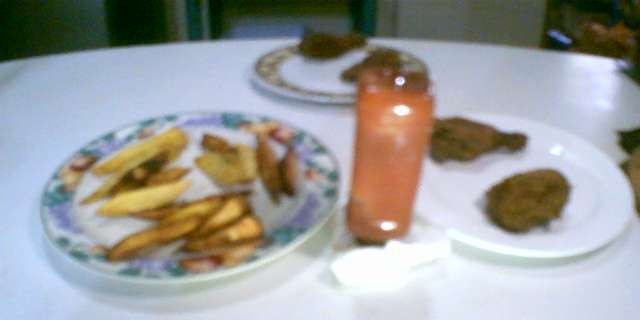chicken: (474, 163, 575, 239), (428, 110, 534, 169), (292, 22, 371, 63), (336, 47, 403, 80)
ketchup_bottle: (338, 73, 438, 251)
potatoe_fries: (79, 123, 297, 274)
